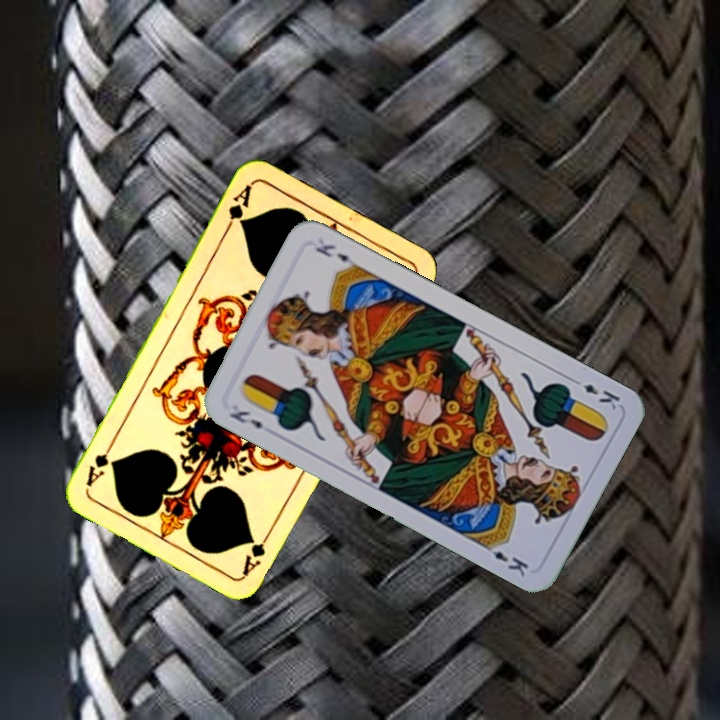EK: (567, 373, 623, 413), (225, 406, 265, 432)
GA: (238, 524, 275, 578), (221, 180, 255, 235)
